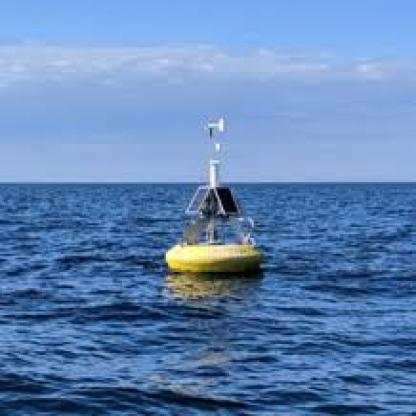buoy: (152, 108, 274, 285)
